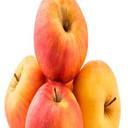apple: (4, 56, 48, 128)
